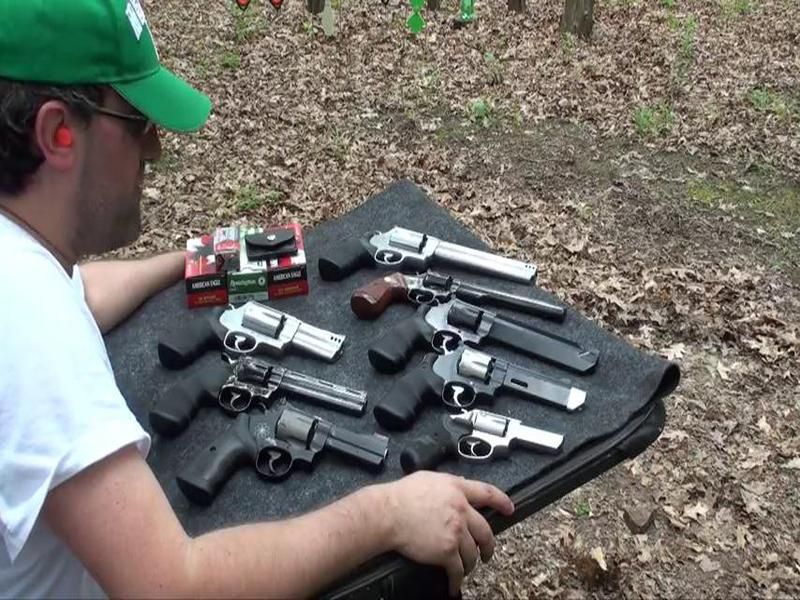Revolver: (163, 403, 401, 511)
